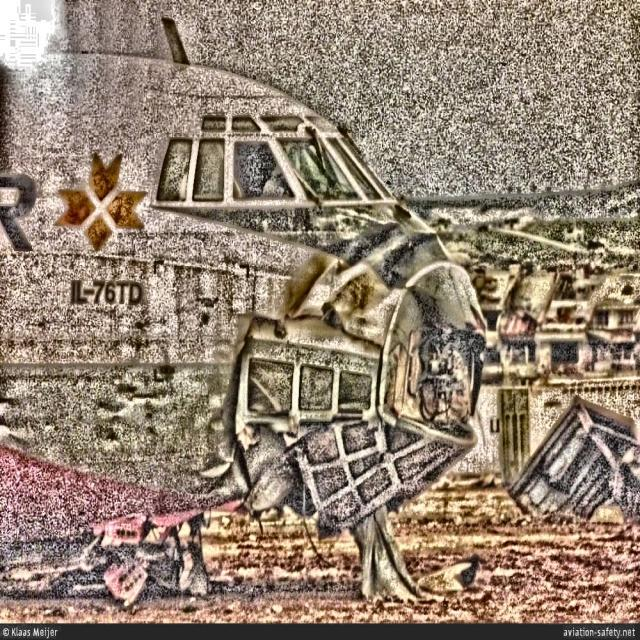dent: (198, 414, 236, 490)
